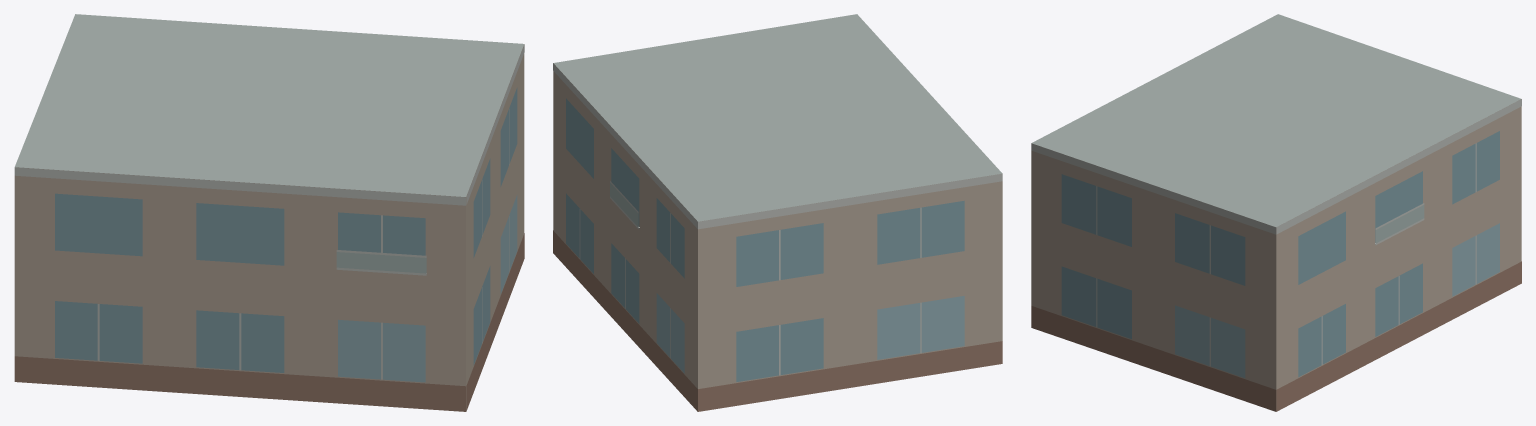
File: survey-upis-32661538.glb
3 renders of one model, left to right at view 1: azimuth 30°, elevation 25°; view 2: azimuth 150°, elevation 25°; view 3: azimuth 270°, elevation 25°, orthographic. The views are drawn at different scales.
Parts seen in each view (by area): view 1: survey-upis-32661538.tmp; view 2: survey-upis-32661538.tmp; view 3: survey-upis-32661538.tmp.
Part boxes in pixels (x1,y1,x2,y2): survey-upis-32661538.tmp: (14,14,524,411); survey-upis-32661538.tmp: (553,14,1002,411); survey-upis-32661538.tmp: (1031,14,1521,411).
Bounding box in the file's own units: 15.13 × 6.1 × 14.7.
